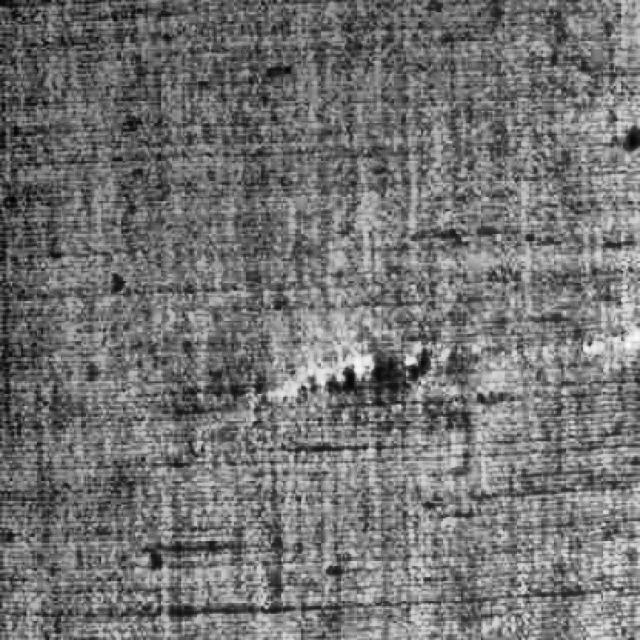thread_error: (207, 311, 640, 438)
